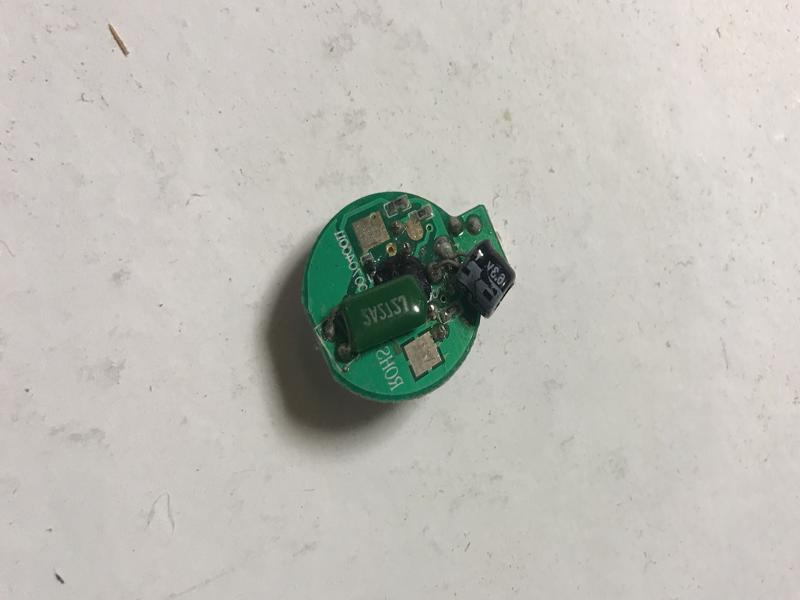Capacitor: (445, 234, 524, 320)
